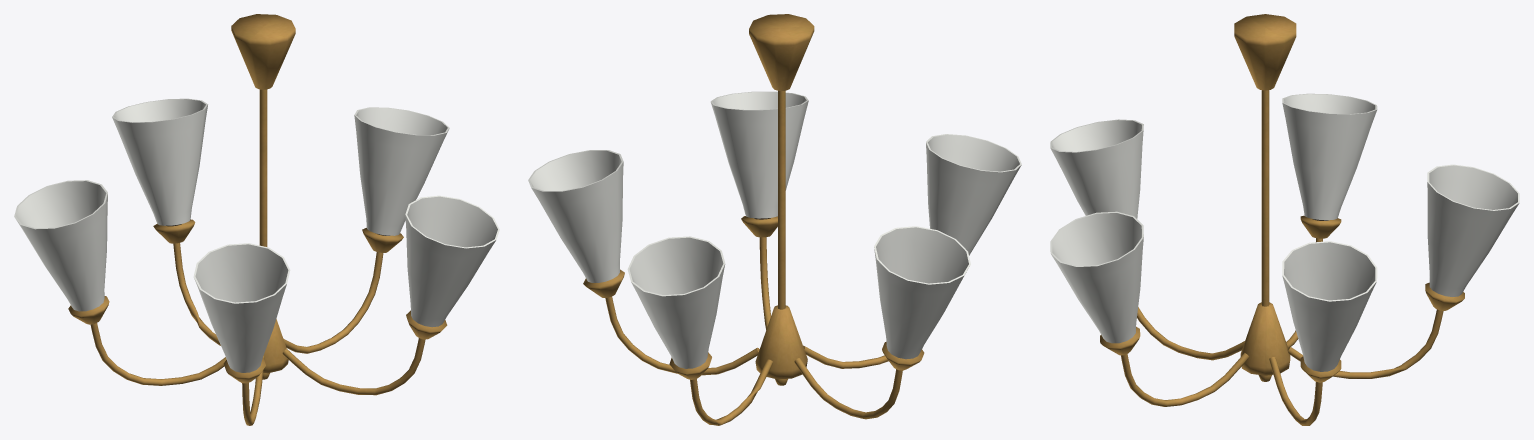
Rendered from lamp_brass_5_lod1_web.glb.
3 renders of one model, left to right at view 1: azimuth 30°, elevation 25°; view 2: azimuth 150°, elevation 25°; view 3: azimuth 270°, elevation 25°, orthographic.
Parts seen in each view (by area): view 1: Chrome_Brass, Glass_Shade_5, Glass_Shade_3, Glass_Shade_4, Glass_Shade_2, Glass_Shade_1; view 2: Chrome_Brass, Glass_Shade_2, Glass_Shade_3, Glass_Shade_1, Glass_Shade_4, Glass_Shade_5; view 3: Chrome_Brass, Glass_Shade_5, Glass_Shade_1, Glass_Shade_2, Glass_Shade_3, Glass_Shade_4.
Boxes of the visible parts, x1,y1,x2,y2 form: Chrome_Brass: [68, 14, 447, 425]; Glass_Shade_5: [405, 195, 499, 327]; Glass_Shade_3: [14, 180, 107, 311]; Glass_Shade_4: [193, 243, 290, 372]; Glass_Shade_2: [112, 98, 207, 225]; Glass_Shade_1: [354, 107, 449, 235]; Chrome_Brass: [583, 14, 924, 425]; Glass_Shade_2: [627, 236, 725, 368]; Glass_Shade_3: [874, 226, 970, 359]; Glass_Shade_1: [528, 150, 623, 282]; Glass_Shade_4: [926, 134, 1021, 255]; Glass_Shade_5: [710, 91, 808, 218]; Chrome_Brass: [1100, 14, 1464, 425]; Glass_Shade_5: [1050, 211, 1143, 343]; Glass_Shade_1: [1282, 241, 1377, 371]; Glass_Shade_2: [1427, 164, 1519, 296]; Glass_Shade_3: [1282, 93, 1377, 220]; Glass_Shade_4: [1050, 119, 1143, 218].
Bounding box in the file's own units: 0.7539 × 0.6 × 0.721.
Materials: 3 (3 with a texture image).
